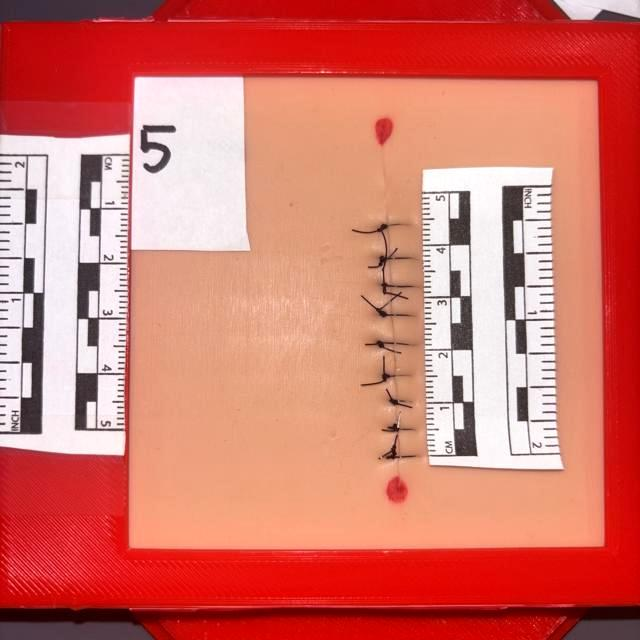incision_line: (380, 124, 403, 486)
scale_marker: (422, 244, 459, 296)
suture_d: (383, 226, 402, 259), (385, 315, 397, 344), (385, 287, 397, 315), (389, 404, 402, 429), (391, 429, 402, 458), (385, 260, 398, 284), (386, 378, 399, 402), (384, 345, 394, 376)
suture_l: (379, 339, 393, 346), (385, 372, 395, 380), (383, 310, 392, 318), (387, 398, 397, 404), (381, 222, 388, 229), (384, 282, 392, 288), (390, 455, 398, 460), (382, 256, 389, 261), (391, 426, 396, 432)
suture_r: (394, 339, 417, 348), (392, 282, 414, 290), (393, 311, 411, 320), (396, 425, 416, 433), (389, 220, 408, 227), (391, 254, 410, 261), (397, 397, 416, 403), (395, 373, 413, 378), (399, 455, 418, 459)
